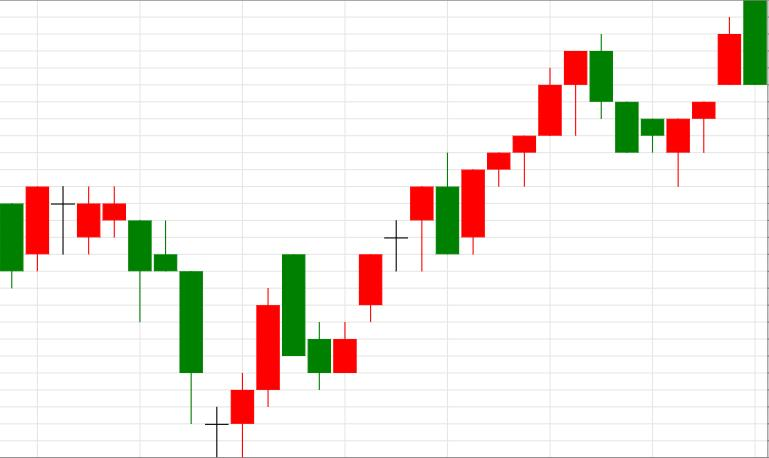hanging_man_fall: (333, 51, 587, 374)
morning_star_rise: (51, 186, 254, 458)
